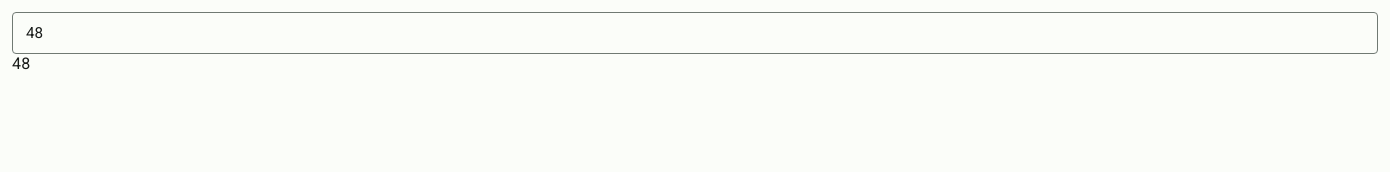
Scenario: NumberInput › can be cleared and retyped without a leading 0
The image size is (1390, 172).
Step 1. Clear the number field named "Age" → x=695, y=33, box [12, 12, 1378, 54]
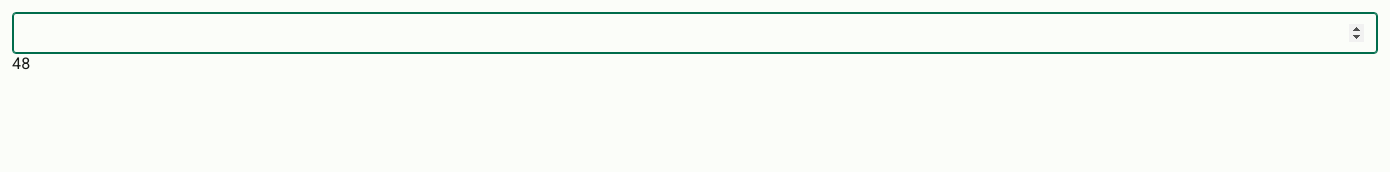
expect the text "48" is shown: met, box [12, 54, 30, 73]
Step 2. Type "71" into the number field named "Age" → x=695, y=33, box [12, 12, 1378, 54]
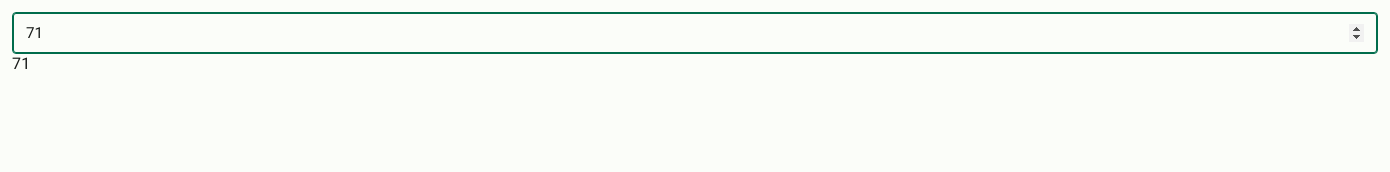
expect the text "71" is shown: met, box [12, 54, 30, 73]
